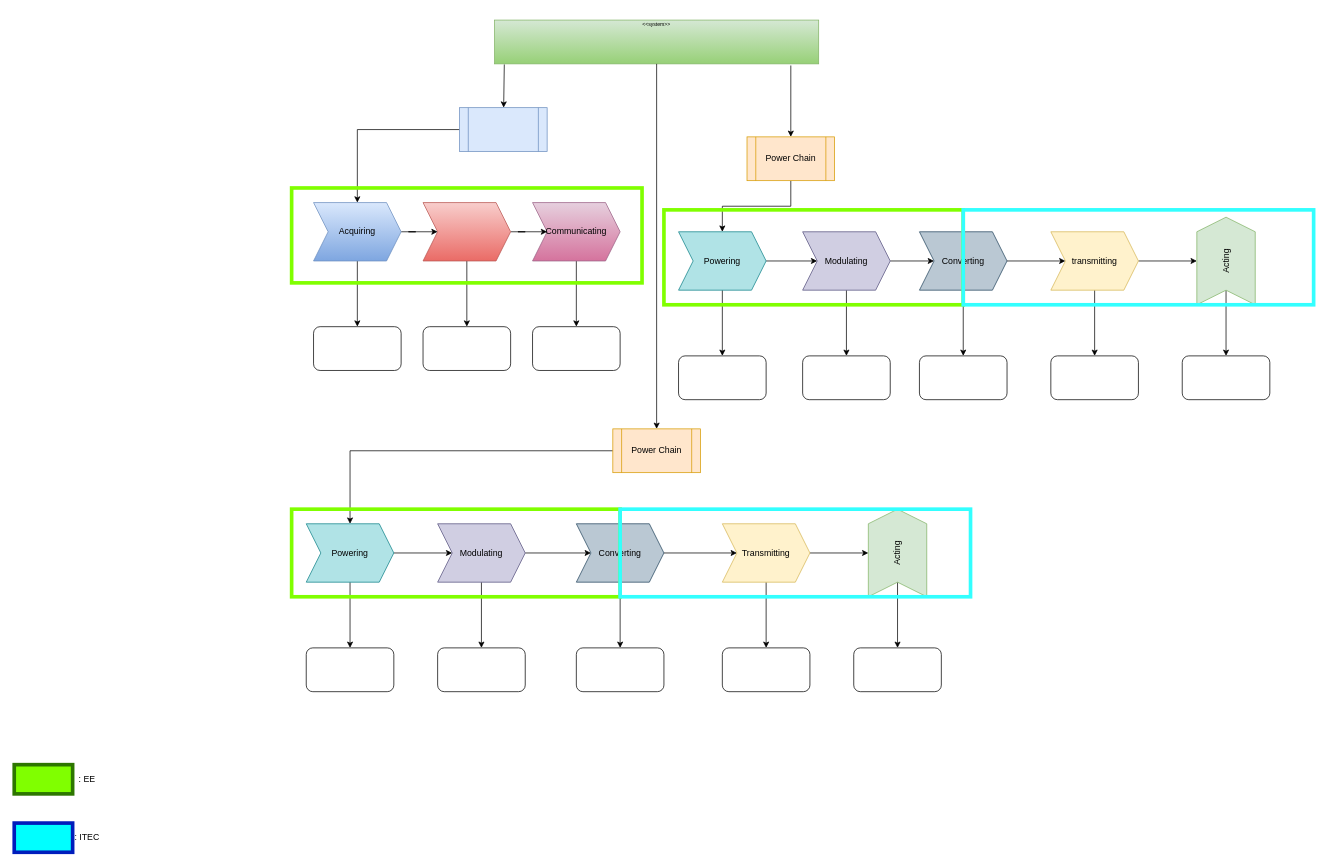
Some shapes in this 1328 by 867 pixel diagram are drawn without their labels. The box of each missing label's shape, as (x1, y1, x2, y2) in pixels:
Data Chain: (459, 107, 547, 151)
Processing: (422, 202, 511, 261)
shop mobility scooter: (494, 19, 819, 64)
